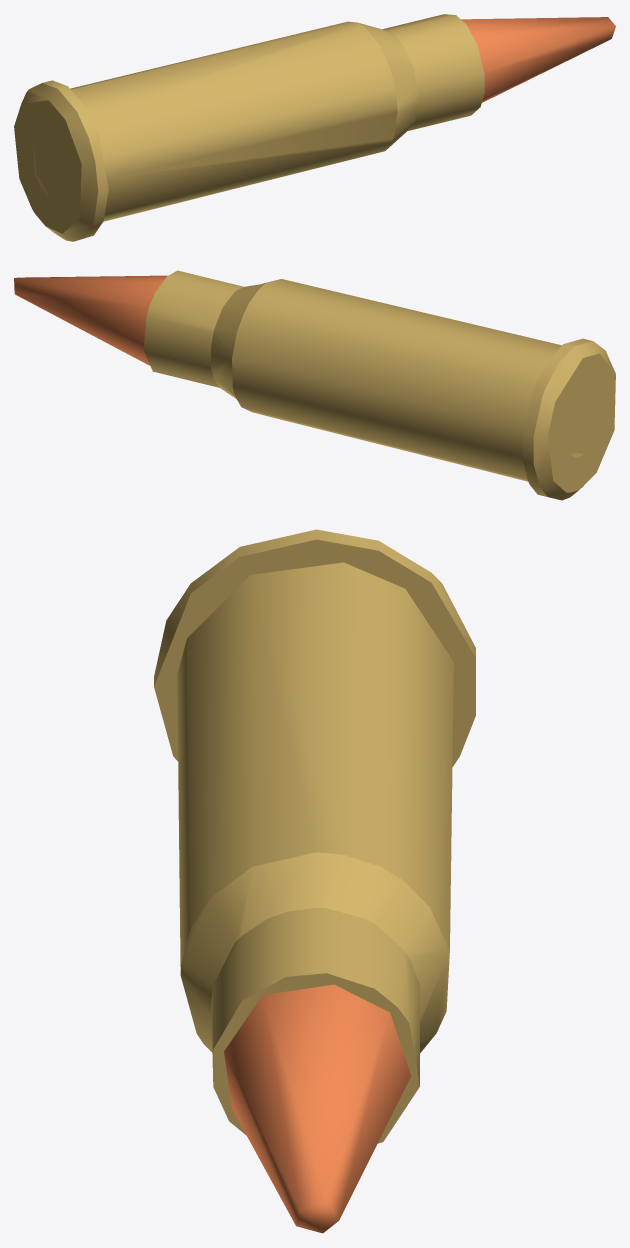
Rendered from p90_Bullet.fbx.
The picture shows the model from 3 angles, top to bottom: view 1: azimuth 30°, elevation 25°; view 2: azimuth 150°, elevation 25°; view 3: azimuth 270°, elevation 25°; orthographic projection. The views are drawn at different scales.
Visible parts, largest first — view 1: 256 WINCHESTER MAGNUM.005; view 2: 256 WINCHESTER MAGNUM.005; view 3: 256 WINCHESTER MAGNUM.005.
Part boxes in pixels (<box>): 256 WINCHESTER MAGNUM.005: <box>14,14,615,241</box>; 256 WINCHESTER MAGNUM.005: <box>14,270,615,500</box>; 256 WINCHESTER MAGNUM.005: <box>154,529,475,1233</box>.
Size of the model in its own units: 2.96 by 0.7374 by 0.7321.
